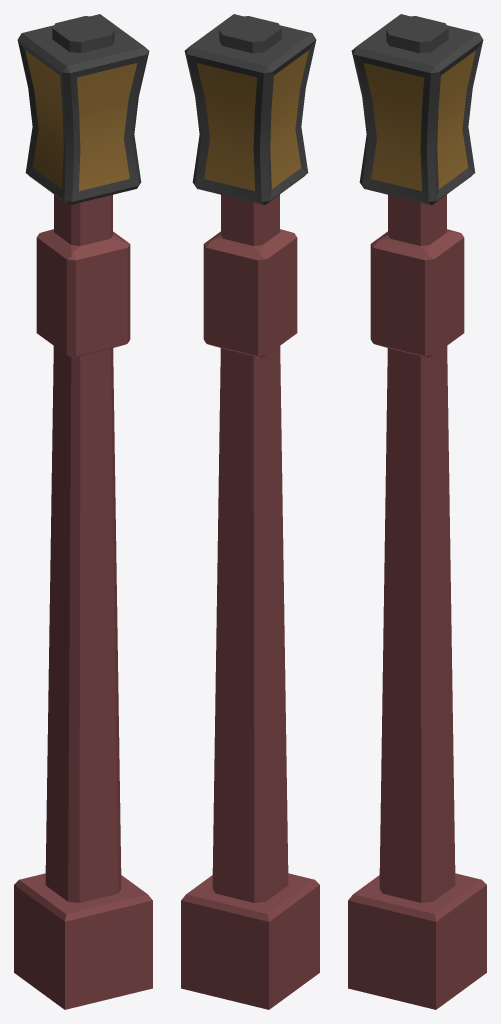
Rendered from streetlight_a005.glb.
3 views of the same model, side by side, from view 1: azimuth 30°, elevation 25°; view 2: azimuth 150°, elevation 25°; view 3: azimuth 330°, elevation 25° (orthographic).
Visible parts, largest first — view 1: streetlight_a005; view 2: streetlight_a005; view 3: streetlight_a005.
Boxes of the visible parts, x1,y1,x2,y2 form: streetlight_a005: [14, 14, 152, 1009]; streetlight_a005: [181, 14, 319, 1009]; streetlight_a005: [348, 14, 486, 1009].
Bounding box in the file's own units: 0.142 × 1.47 × 0.142.
1 material, 1 textured.
